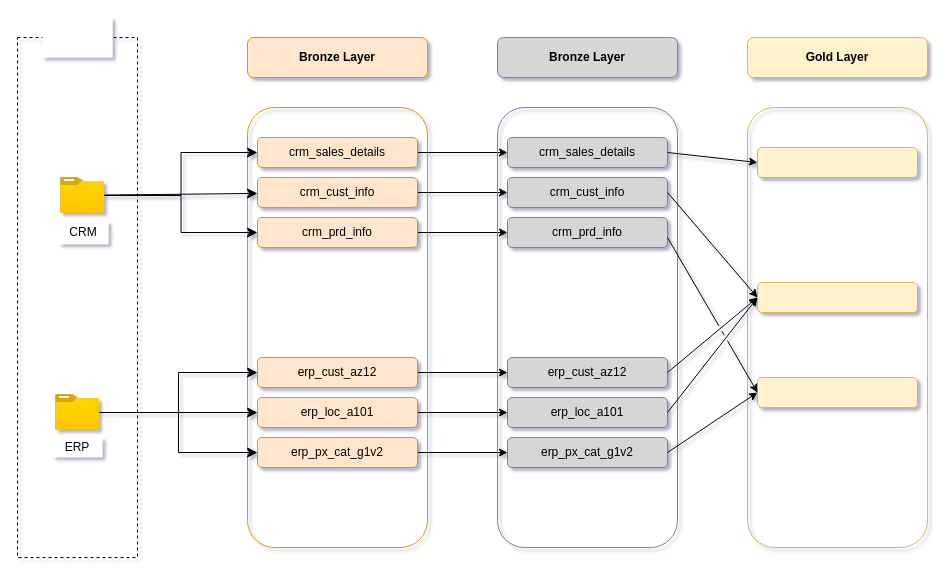
Some shapes in this 951 by 581 pixel diagram are drawn without their labels. The centre of each missing label's shape, as x and y in pixels:
"dim_products" goes at pixel 837 392.
"dimm_customers" goes at pixel 837 297.
"fact_tables" goes at pixel 837 162.
"Sources" goes at pixel 77 37.
